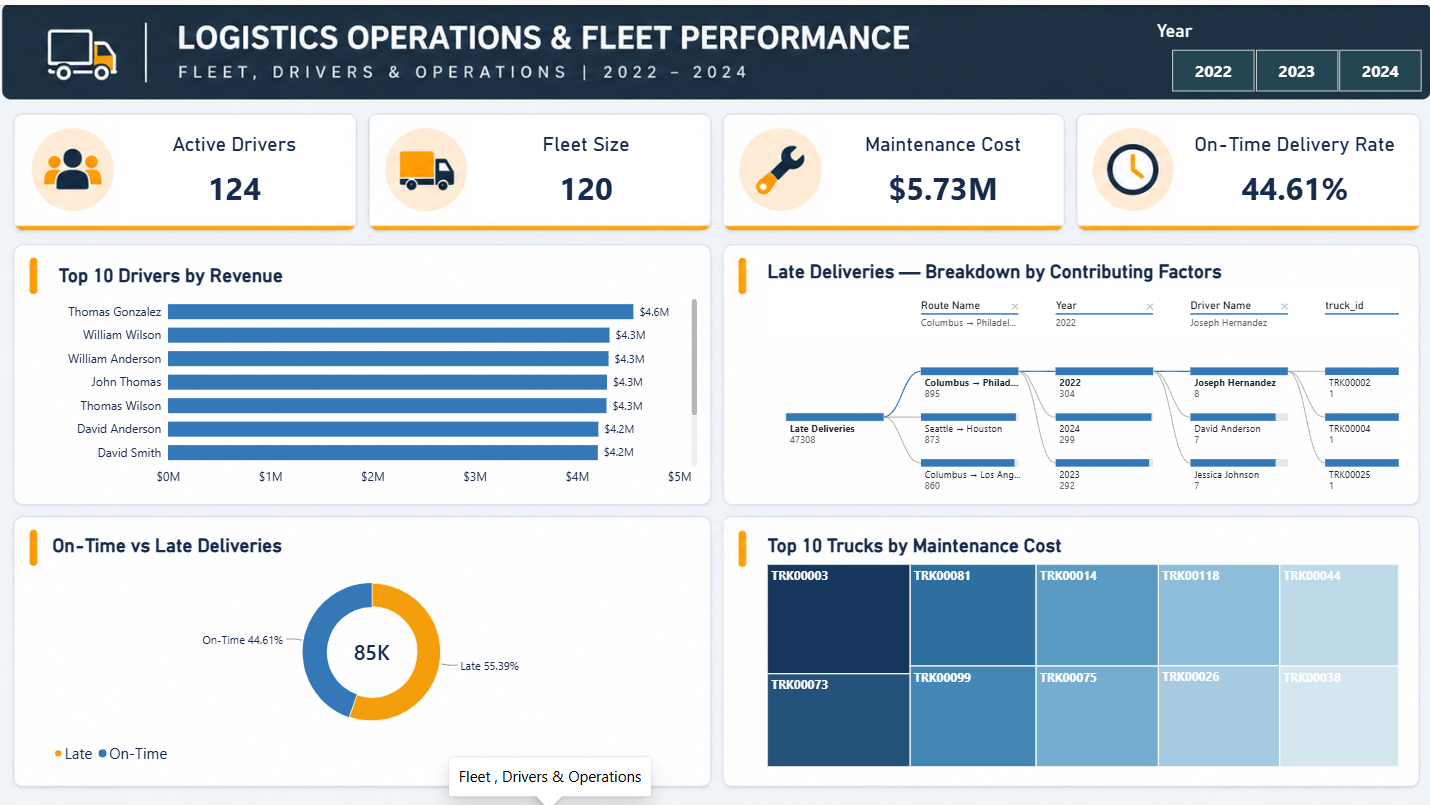

What the dashboard file says about the page in this screenshot:
{"tool":"powerbi","page":{"name":"Fleet , Drivers & Operations","canvas":[1920,1080],"ordinal":2},"visuals":[{"type":"card","title":"Active Drivers","fields":{"Values":["aMeasures.Active Drivers"]},"box":[162.5,155,307.5,131.2],"z":0},{"type":"card","title":"Fleet Size","fields":{"Values":["aMeasures.Fleet Size"]},"box":[631.2,155,308.8,131.2],"z":1000},{"type":"clusteredBarChart","title":"Top 10 Drivers by Revenue","fields":{"Category":["Dim_Drivers.Driver Name"],"Y":["aMeasures.Total_Revenue"]},"box":[65,332.5,885,330],"z":4000},{"type":"donutChart","title":"On-Time vs Late Deliveries","fields":{"Category":["delivery_events.Delivery Status"],"Y":["aMeasures.Delivery Count"]},"box":[57.5,692.5,885,340],"z":6000},{"type":"treemap","title":"Top 10 Trucks by Maintenance Cost","fields":{"Group":["Dim_Trucks.truck_id"],"Values":["aMeasures.Total Maintenance Cost"]},"box":[1012.5,692.5,875,340],"z":7000},{"type":"card","title":"On-Time Delivery Rate","fields":{"Values":["aMeasures.On-Time Delivery Rate"]},"box":[1577.5,155,308.8,131.2],"z":7001},{"type":"card","title":"Maintenance Cost","fields":{"Values":["aMeasures.Total Maintenance Cost"]},"box":[1110,155,303.8,131.2],"z":7002},{"type":"slicer","title":"Year","fields":{"Values":["Dim_Date.Year Hierarchy.Year"]},"box":[1547.5,20,372.5,97.5],"z":7003},{"type":"decompositionTreeVisual","title":"Late Deliveries — Breakdown by Contributing Factors","fields":{"Analyze":["aMeasures.Late Deliveries"],"ExplainBy":["Dim_Route.Route Name","Dim_Date.Year Hierarchy.Year","Dim_Drivers.Driver Name","Dim_Trucks.truck_id"]},"box":[1012.5,327.5,875,335],"z":7004}]}

Visuals, with their boxes in screenshot pixels (x1, y1, x2, y2), scaled from the page's 1920x1080 canvas onto the 1430x805 screenshot:
"Active Drivers" card: left=121, top=116, right=350, bottom=213
"Fleet Size" card: left=470, top=116, right=700, bottom=213
"Top 10 Drivers by Revenue" clusteredBarChart: left=48, top=248, right=708, bottom=494
"On-Time vs Late Deliveries" donutChart: left=43, top=516, right=702, bottom=770
"Top 10 Trucks by Maintenance Cost" treemap: left=754, top=516, right=1406, bottom=770
"On-Time Delivery Rate" card: left=1175, top=116, right=1405, bottom=213
"Maintenance Cost" card: left=827, top=116, right=1053, bottom=213
"Year" slicer: left=1153, top=15, right=1429, bottom=88
"Late Deliveries — Breakdown by Contributing Factors" decompositionTreeVisual: left=754, top=244, right=1406, bottom=494
